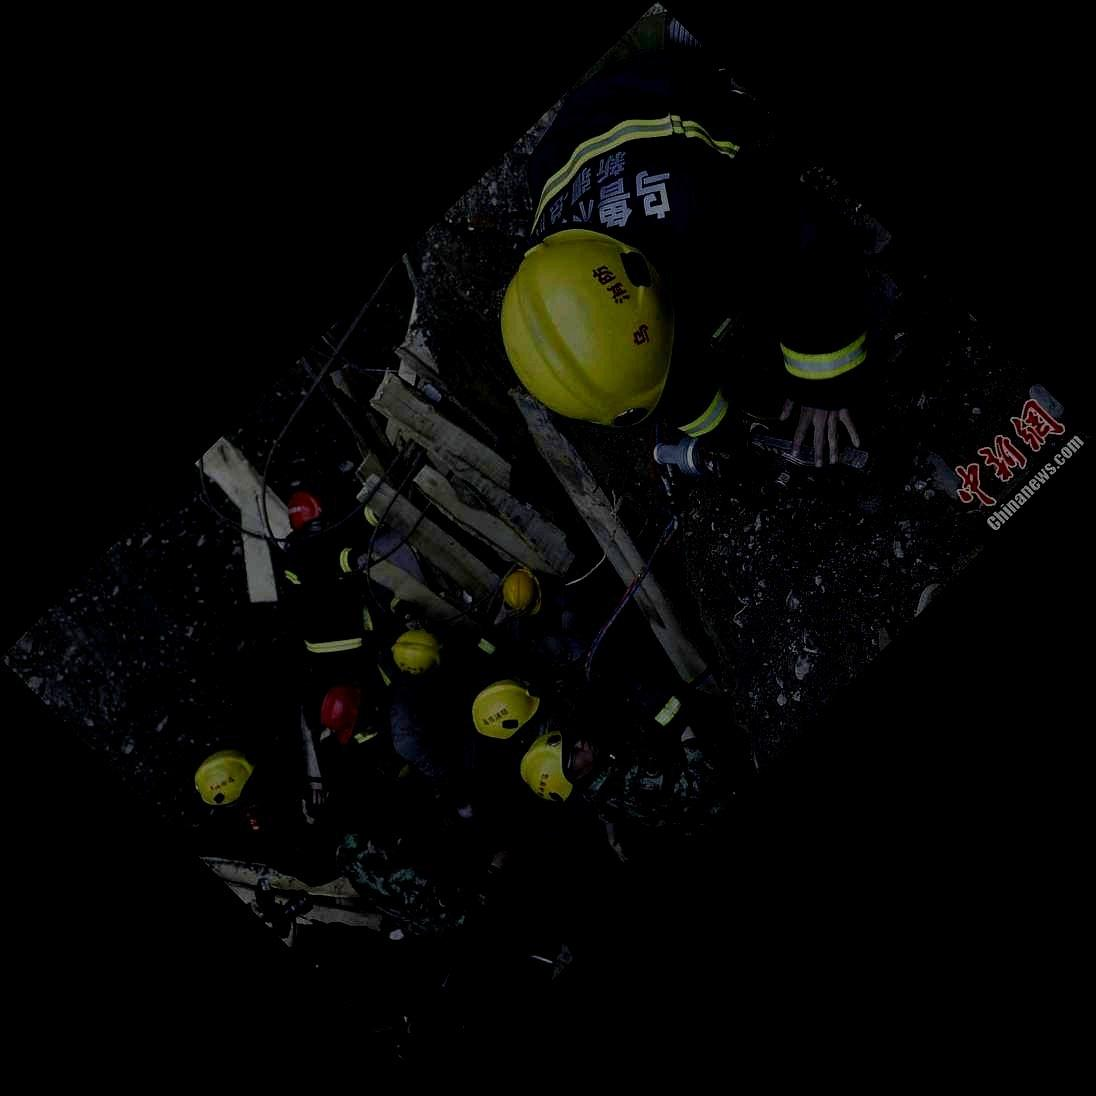helmet: (498, 228, 677, 429), (520, 728, 605, 802), (472, 677, 541, 738), (320, 684, 383, 743), (194, 750, 255, 805), (390, 628, 440, 674), (501, 565, 542, 619), (286, 490, 329, 537)
